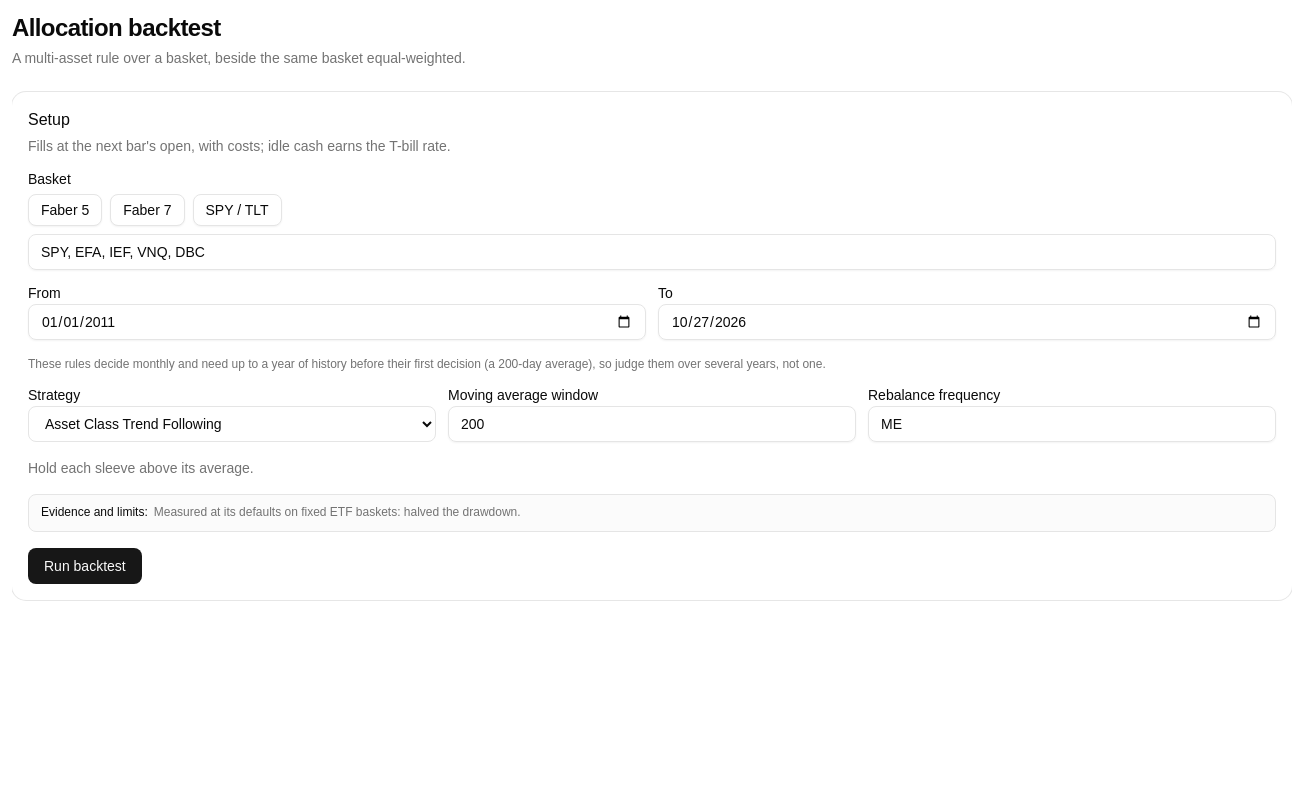
Test case: AllocationPage — a strategy that shorts (decision 48) › reports what the shorts did and the terms they were charged on
expect the number field labelled "Moving average window" is shown: met, box left=448, top=406, right=856, bottom=442
Select "Pairs Trading" in the dropdown labelled "Strategy" at (232, 424), box left=28, top=406, right=436, bottom=442
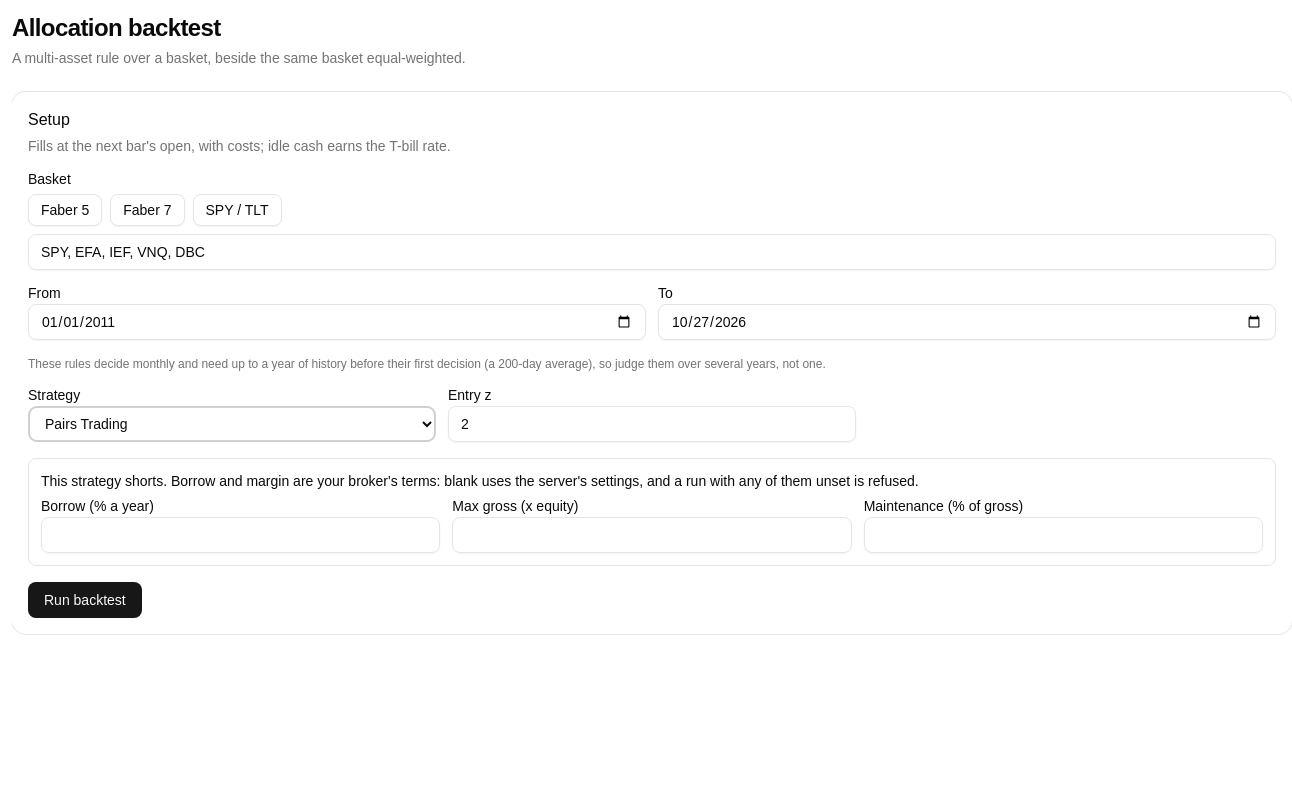
Click the button "Run backtest" at (85, 600), box left=28, top=582, right=142, bottom=618
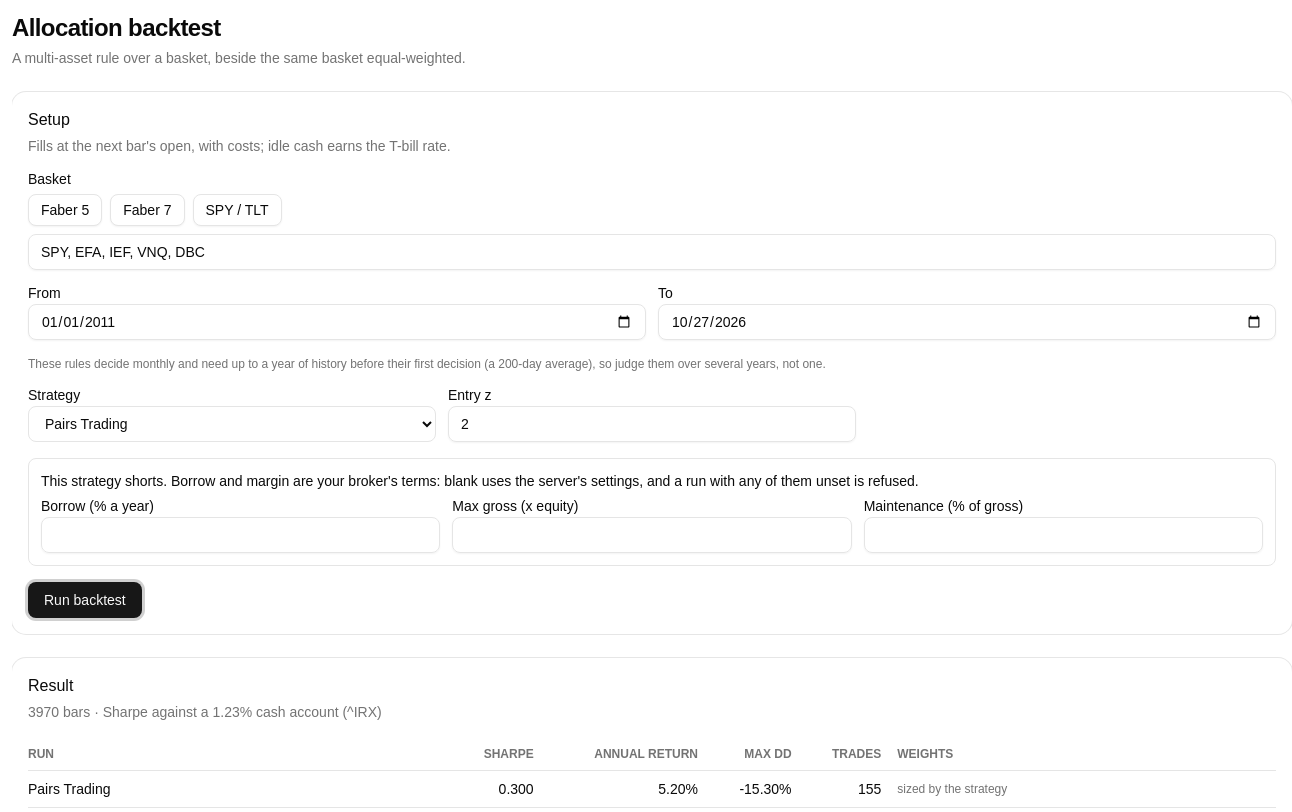
expect the text "sized by the strategy" is shown: met, box left=897, top=770, right=1276, bottom=808
